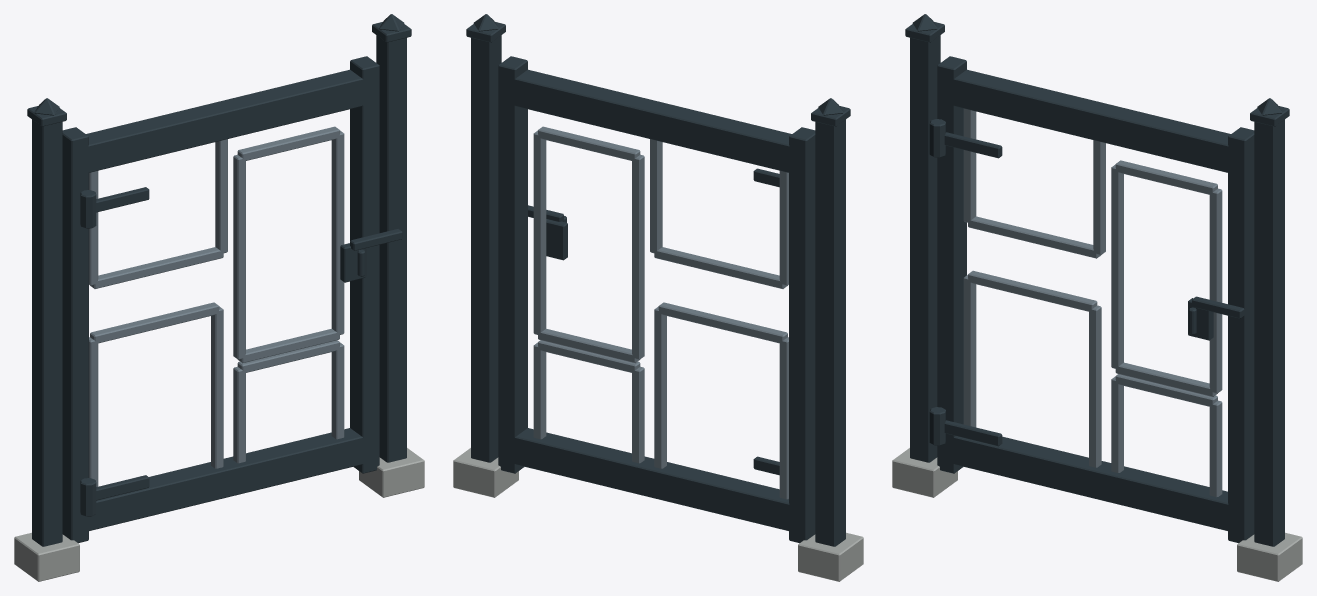
Rendered from b19_geometric_metal_screen_gate.glb.
3 views of the same model, side by side, from view 1: azimuth 30°, elevation 25°; view 2: azimuth 150°, elevation 25°; view 3: azimuth 330°, elevation 25° (orthographic).
Visible parts, largest first — view 1: b19_geometric_metal_screen_gate; view 2: b19_geometric_metal_screen_gate; view 3: b19_geometric_metal_screen_gate.
Part boxes in pixels (left/top/right/bottom): b19_geometric_metal_screen_gate: left=14, top=14, right=424, bottom=581; b19_geometric_metal_screen_gate: left=453, top=14, right=863, bottom=581; b19_geometric_metal_screen_gate: left=892, top=14, right=1302, bottom=581.
Size of the model in its own units: 1.73 by 2.01 by 0.2897.
